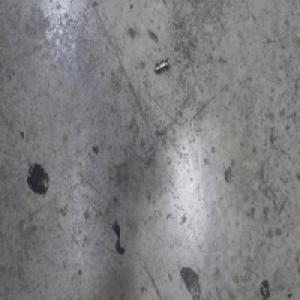Bolt: (154, 57, 169, 76)
